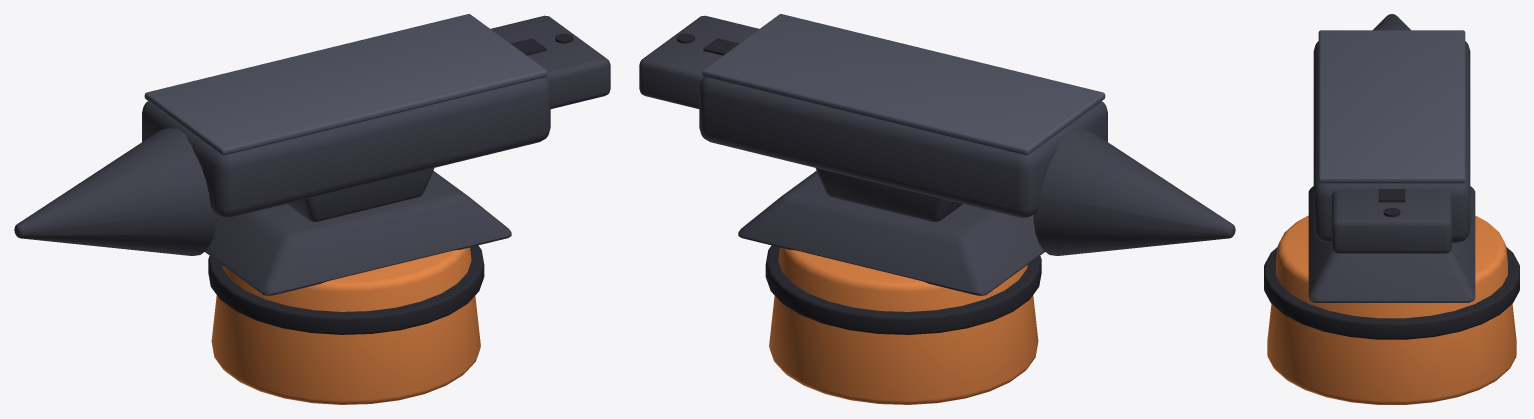
File: AnvilHorned.fbx
3 views of the same model, side by side, from view 1: azimuth 30°, elevation 25°; view 2: azimuth 150°, elevation 25°; view 3: azimuth 270°, elevation 25° (orthographic). The views are drawn at different scales.
Parts seen in each view (by area): view 1: Face, Stump, Body, Feet, Horn, StumpBand, Heel, Waist; view 2: Face, Stump, Body, Feet, Horn, StumpBand, Heel, Waist; view 3: Face, Stump, Feet, Heel, StumpBand, Body, Horn, HardyHole.
Boxes of the visible parts, x1,y1,x2,y2 form: Face: (144, 14, 547, 155); Stump: (211, 247, 480, 404); Body: (142, 77, 550, 217); Feet: (205, 171, 511, 295); Horn: (14, 128, 216, 255); StumpBand: (208, 245, 484, 334); Heel: (491, 15, 610, 108); Waist: (287, 168, 434, 221); Face: (702, 14, 1105, 155); Stump: (769, 247, 1038, 404); Body: (699, 77, 1107, 217); Feet: (738, 171, 1044, 295); Horn: (1033, 128, 1235, 255); StumpBand: (765, 245, 1041, 334); Heel: (639, 15, 758, 108); Waist: (815, 168, 962, 221); Face: (1318, 30, 1465, 183); Stump: (1267, 215, 1516, 404); Feet: (1308, 186, 1475, 302); Heel: (1332, 189, 1451, 253); StumpBand: (1264, 247, 1519, 339); Body: (1313, 41, 1470, 242); Horn: (1373, 14, 1410, 30); HardyHole: (1378, 189, 1405, 202).
Size of the model in its own units: 5.05 by 2.3 by 2.13.
